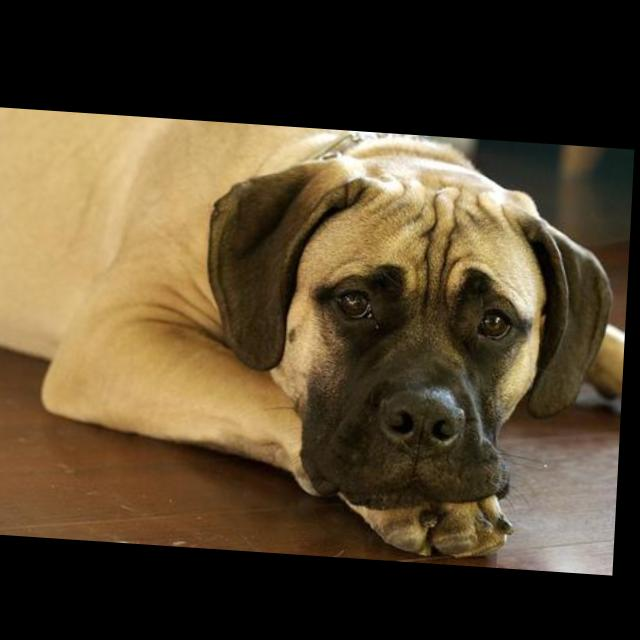bullmastiff: (1, 109, 637, 563)
